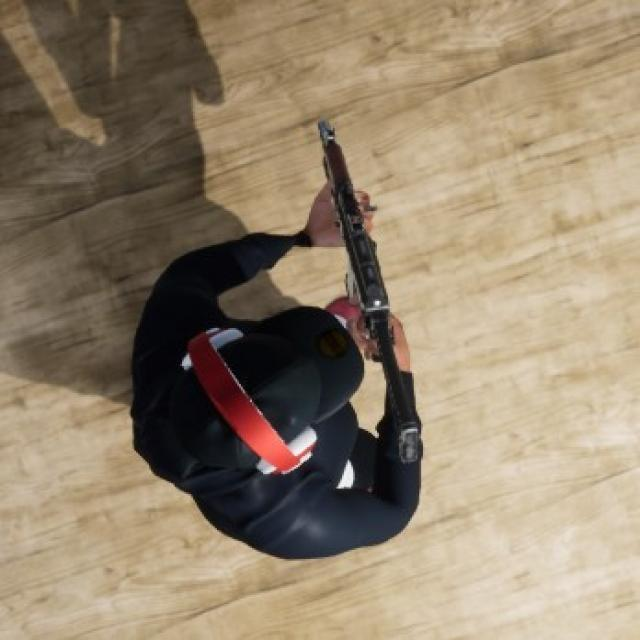weapon: (313, 120, 424, 468)
